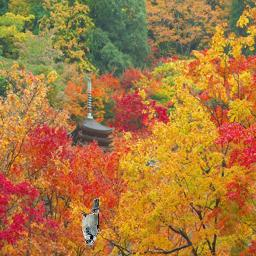Sparrow: (83, 199, 100, 246)
